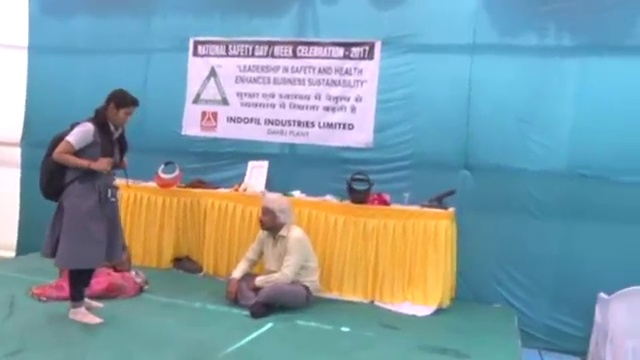helmet_off: (100, 88, 140, 132), (257, 191, 288, 235)
person: (37, 87, 141, 327), (224, 190, 320, 319)
